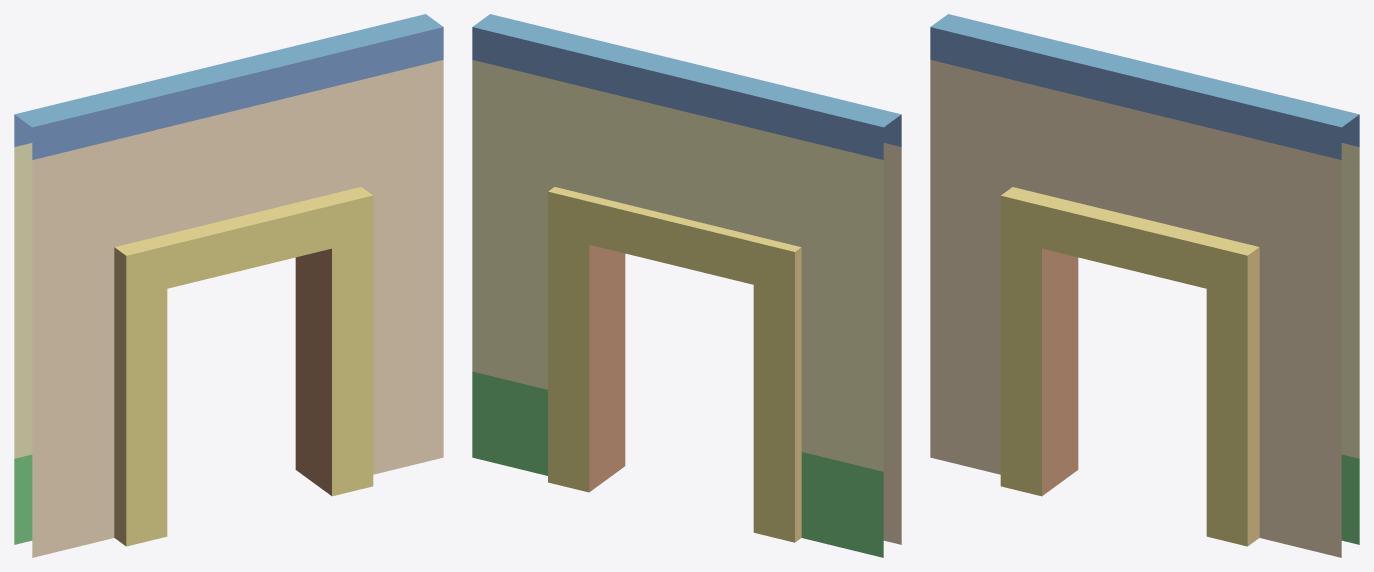
Rendered from wall_inside.fbx.
3 views of the same model, side by side, from view 1: azimuth 30°, elevation 25°; view 2: azimuth 150°, elevation 25°; view 3: azimuth 330°, elevation 25° (orthographic).
Parts seen in each view (by area): view 1: wall_inside; view 2: wall_inside; view 3: wall_inside.
Part boxes in pixels (x1,y1,x2,y2): wall_inside: (14, 14, 443, 557); wall_inside: (472, 14, 901, 557); wall_inside: (930, 14, 1359, 557).
Bounding box in the file's own units: 400 × 400 × 61.11.
